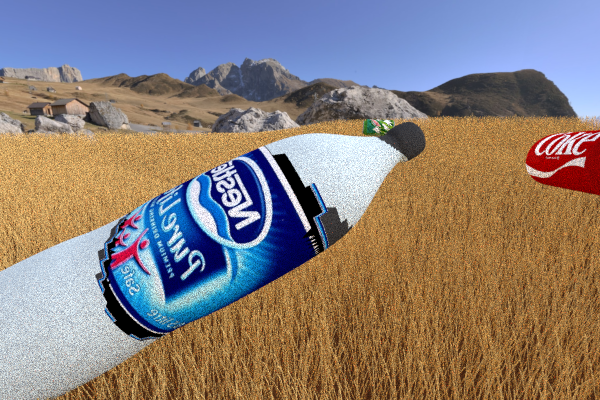Plastic Bottle: (0, 121, 425, 400), (525, 126, 600, 198), (362, 119, 394, 136)
